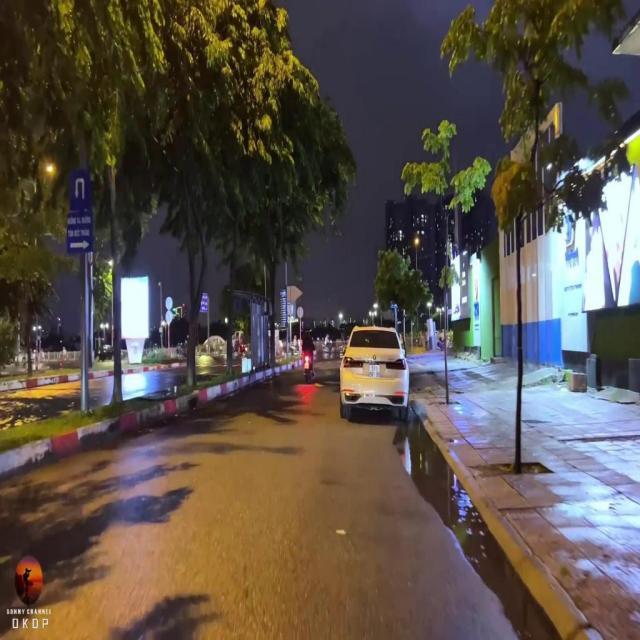cho_quay_xe: (71, 172, 90, 210)
khac: (67, 211, 91, 253)
lan_duong_cho_tung_xe_theo_vach_ke_duong: (199, 293, 207, 312)
